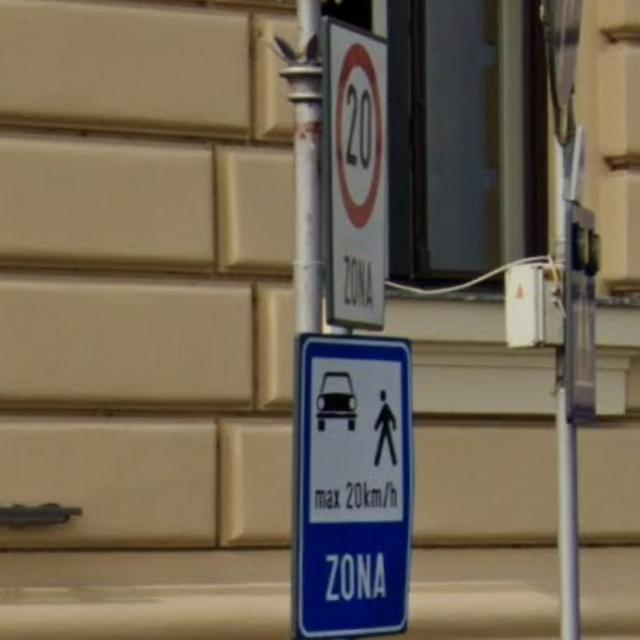forb_speed_over_20: (336, 43, 383, 229)
